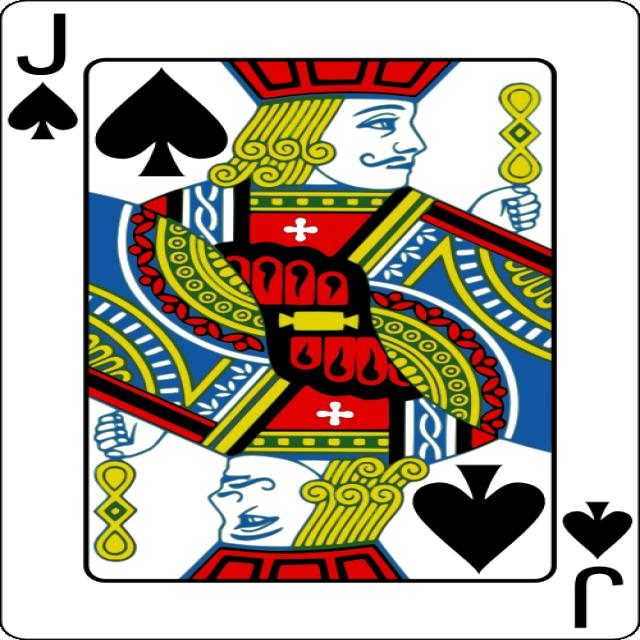Jack: (573, 566, 625, 628), (18, 13, 66, 76)
Spade: (412, 464, 546, 574), (95, 67, 228, 177), (562, 501, 634, 560), (7, 82, 79, 139)
